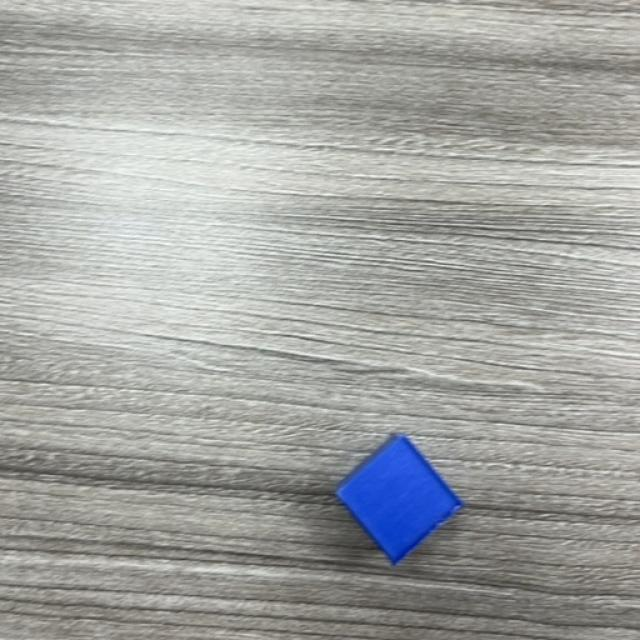Azul: (335, 435, 465, 568)
